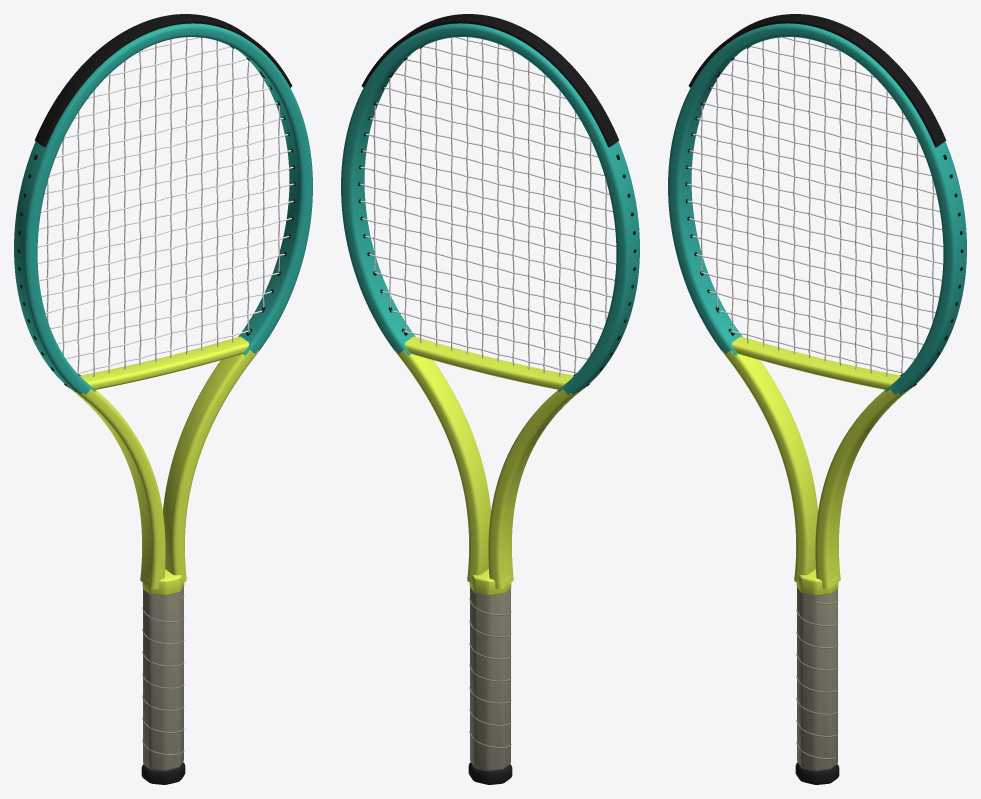
The model's file is head-boom-mp-2024.glb.
The picture shows the model from 3 angles, left to right: view 1: azimuth 30°, elevation 25°; view 2: azimuth 150°, elevation 25°; view 3: azimuth 330°, elevation 25°; orthographic projection.
Parts seen in each view (by area): view 1: Frame, Strings, Handle, Bumper, Yoke, GripSeam, ButtCap, Collar; view 2: Frame, Strings, Handle, Bumper, Yoke, GripSeam, ButtCap, Collar; view 3: Frame, Strings, Handle, Bumper, Yoke, GripSeam, ButtCap, Collar.
Boxes of the visible parts, x1=… form: Frame: x1=14, y1=23, x2=312, y2=588; Strings: x1=37, y1=37, x2=294, y2=376; Handle: x1=143, y1=587, x2=183, y2=771; Bumper: x1=34, y1=14, x2=292, y2=147; Yoke: x1=80, y1=336, x2=248, y2=389; GripSeam: x1=142, y1=595, x2=184, y2=755; ButtCap: x1=141, y1=762, x2=185, y2=784; Collar: x1=142, y1=569, x2=184, y2=595; Frame: x1=341, y1=23, x2=639, y2=588; Strings: x1=359, y1=37, x2=616, y2=376; Handle: x1=470, y1=587, x2=510, y2=771; Bumper: x1=361, y1=14, x2=619, y2=147; Yoke: x1=405, y1=336, x2=573, y2=389; GripSeam: x1=469, y1=598, x2=511, y2=748; ButtCap: x1=468, y1=762, x2=512, y2=784; Collar: x1=469, y1=569, x2=511, y2=595; Frame: x1=668, y1=23, x2=966, y2=588; Strings: x1=686, y1=37, x2=943, y2=376; Handle: x1=797, y1=587, x2=837, y2=771; Bumper: x1=688, y1=14, x2=946, y2=147; Yoke: x1=732, y1=336, x2=900, y2=389; GripSeam: x1=796, y1=600, x2=838, y2=759; ButtCap: x1=795, y1=762, x2=839, y2=784; Collar: x1=796, y1=569, x2=838, y2=595.
Size of the model in its own units: 0.2758 by 0.6886 by 0.0327.
Materials: 6 (1 with a texture image).
